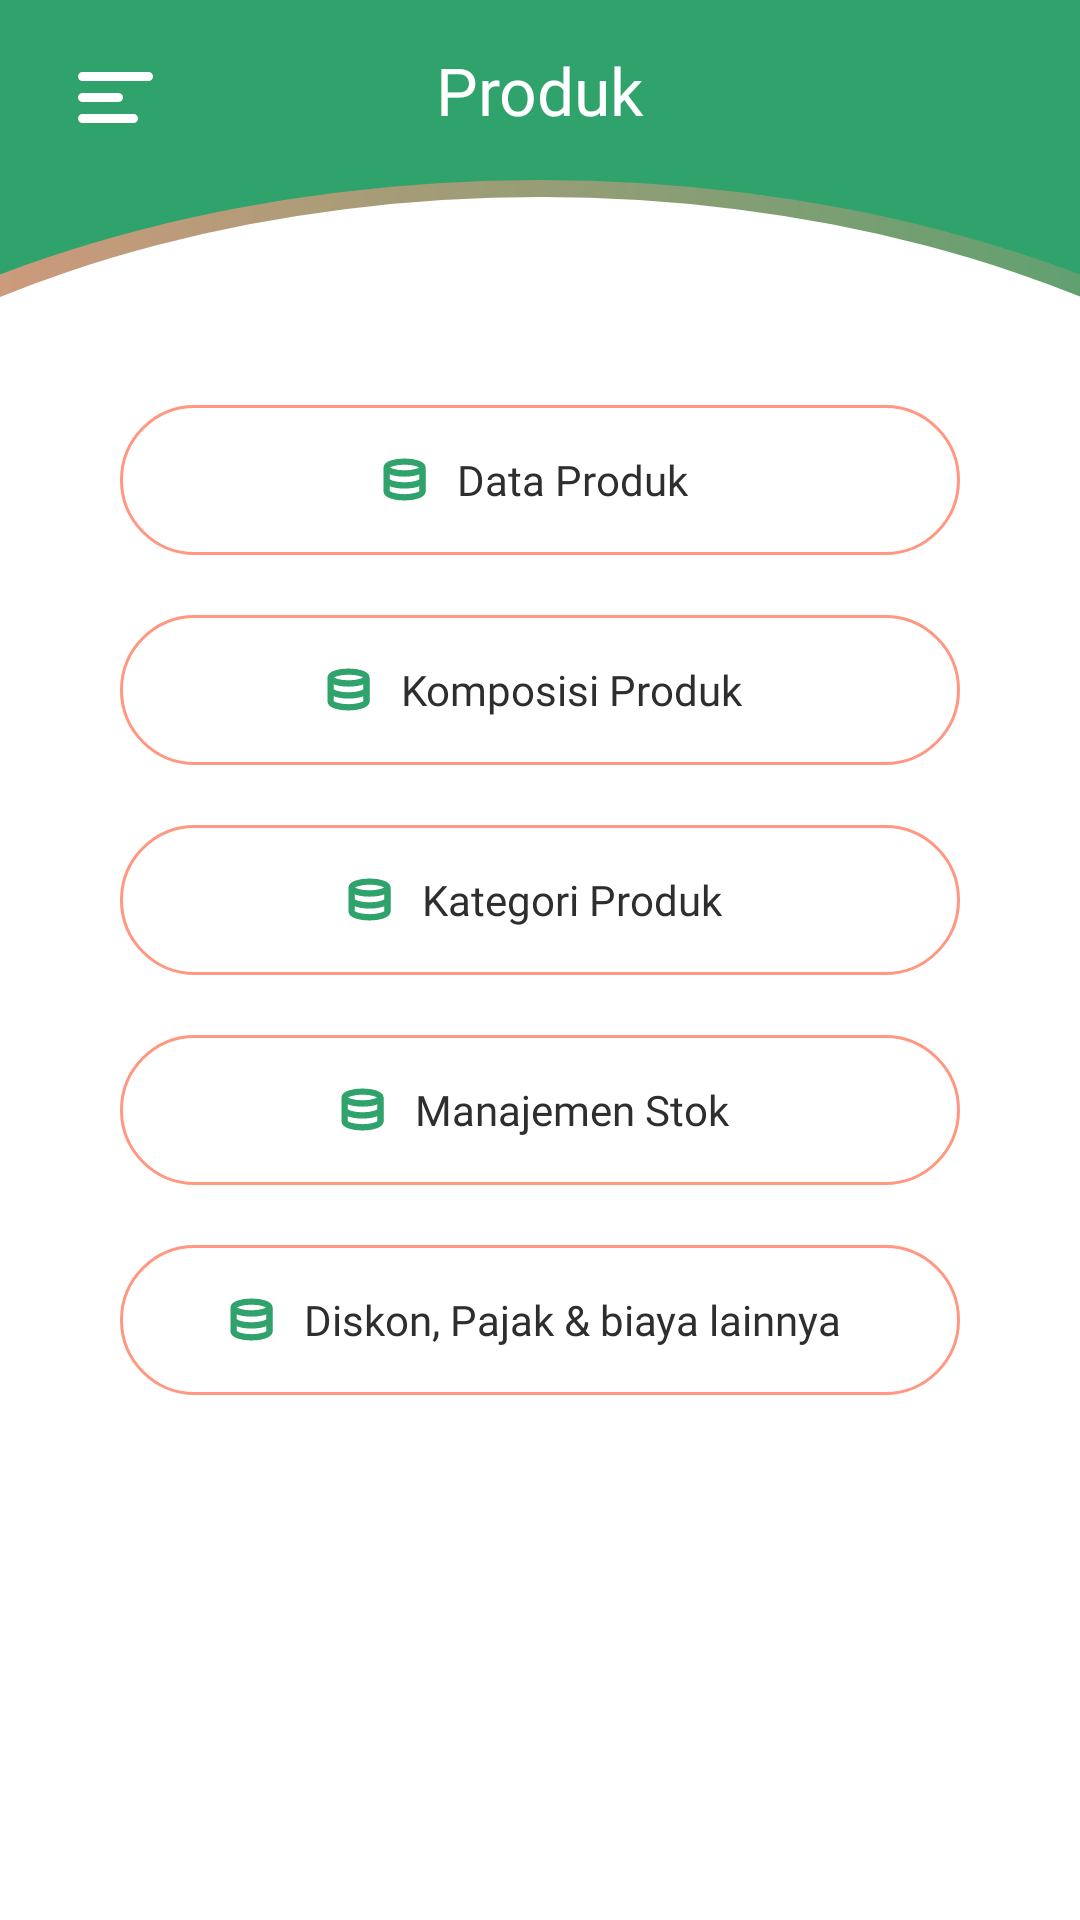

Screen size 1080px×1920px. Icon name, then its center in pixels as [x,y]:
menu: [115,97]
